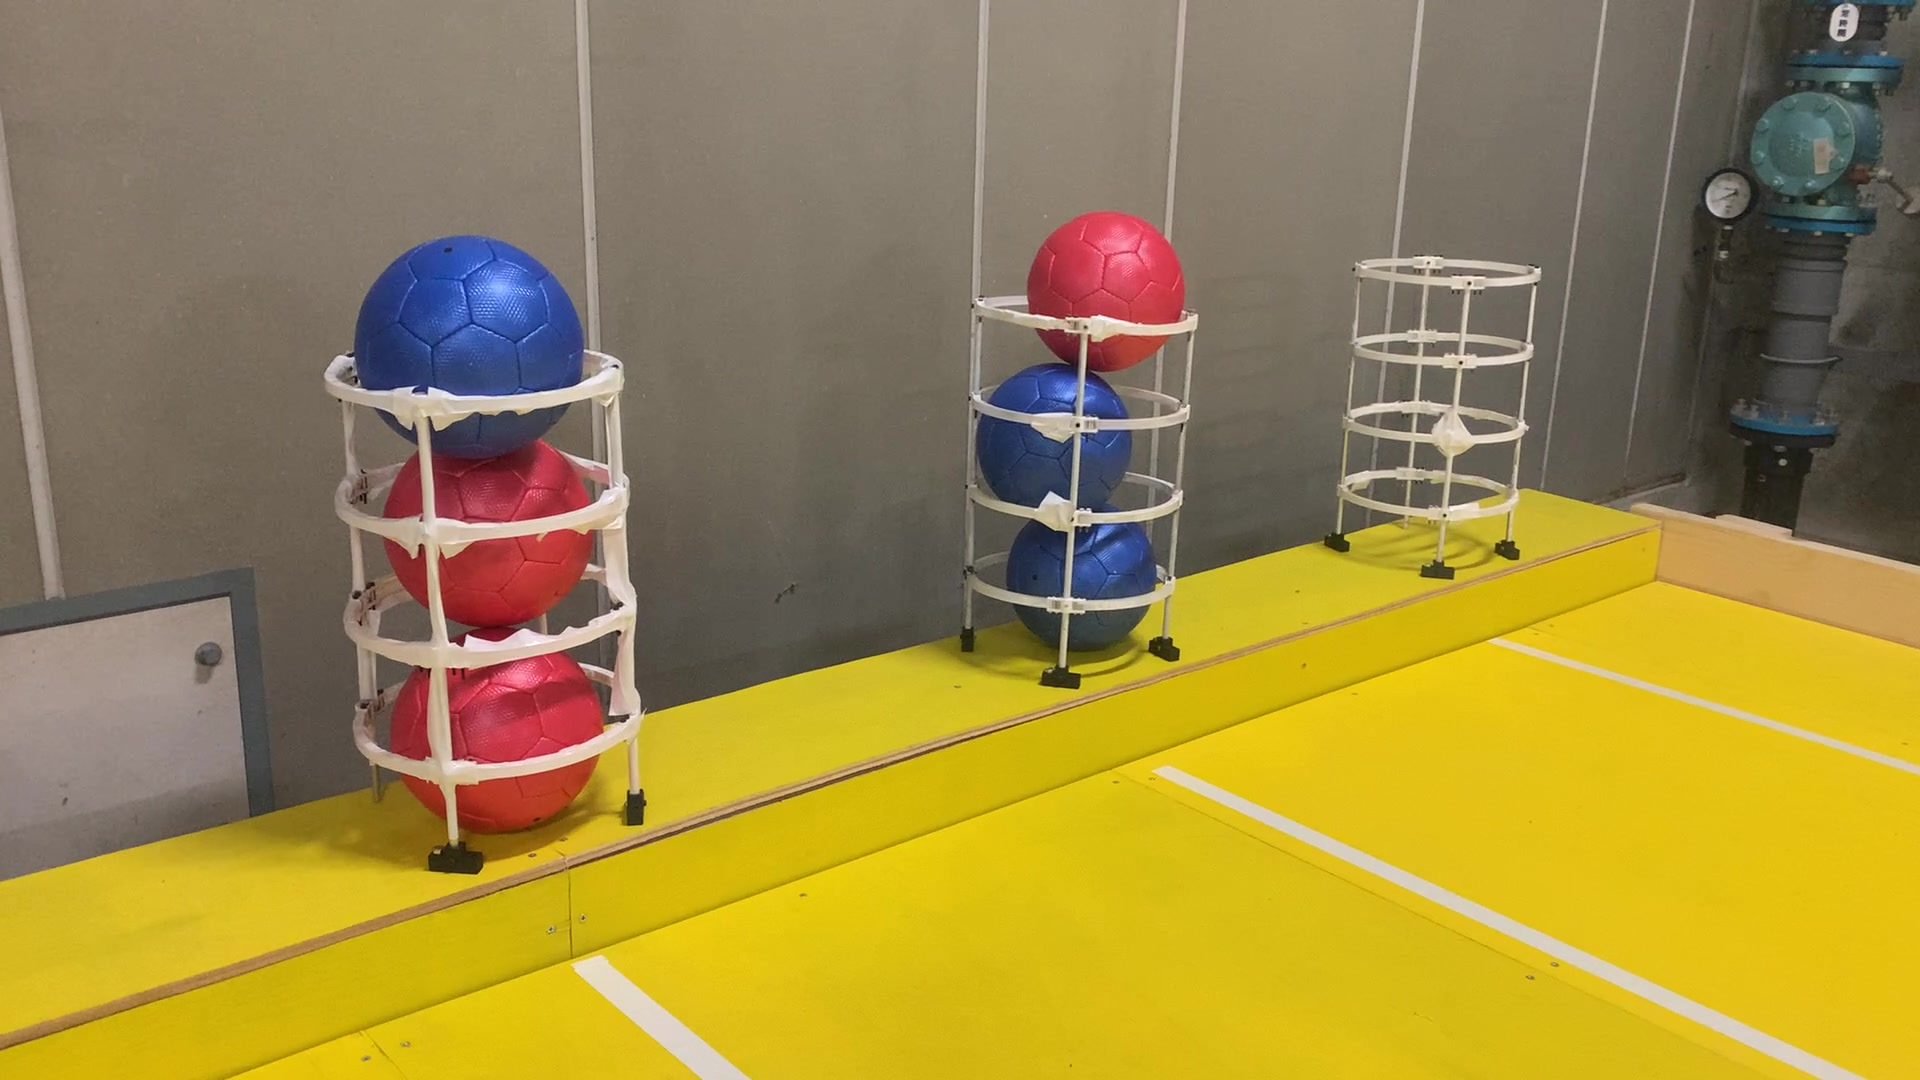blue: (345, 228, 584, 452), (972, 357, 1142, 517), (1004, 489, 1163, 646)
red: (377, 634, 605, 844), (386, 427, 596, 630), (1026, 210, 1189, 376)
